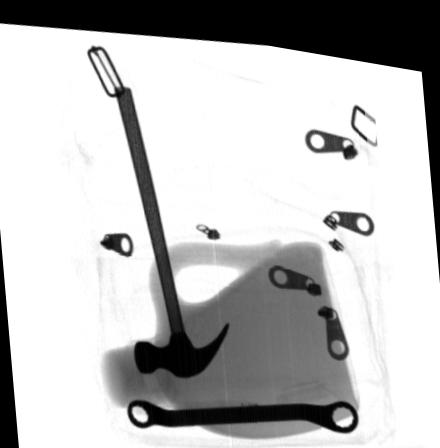Hammer: (113, 81, 229, 371)
Wrench: (126, 389, 359, 423)
